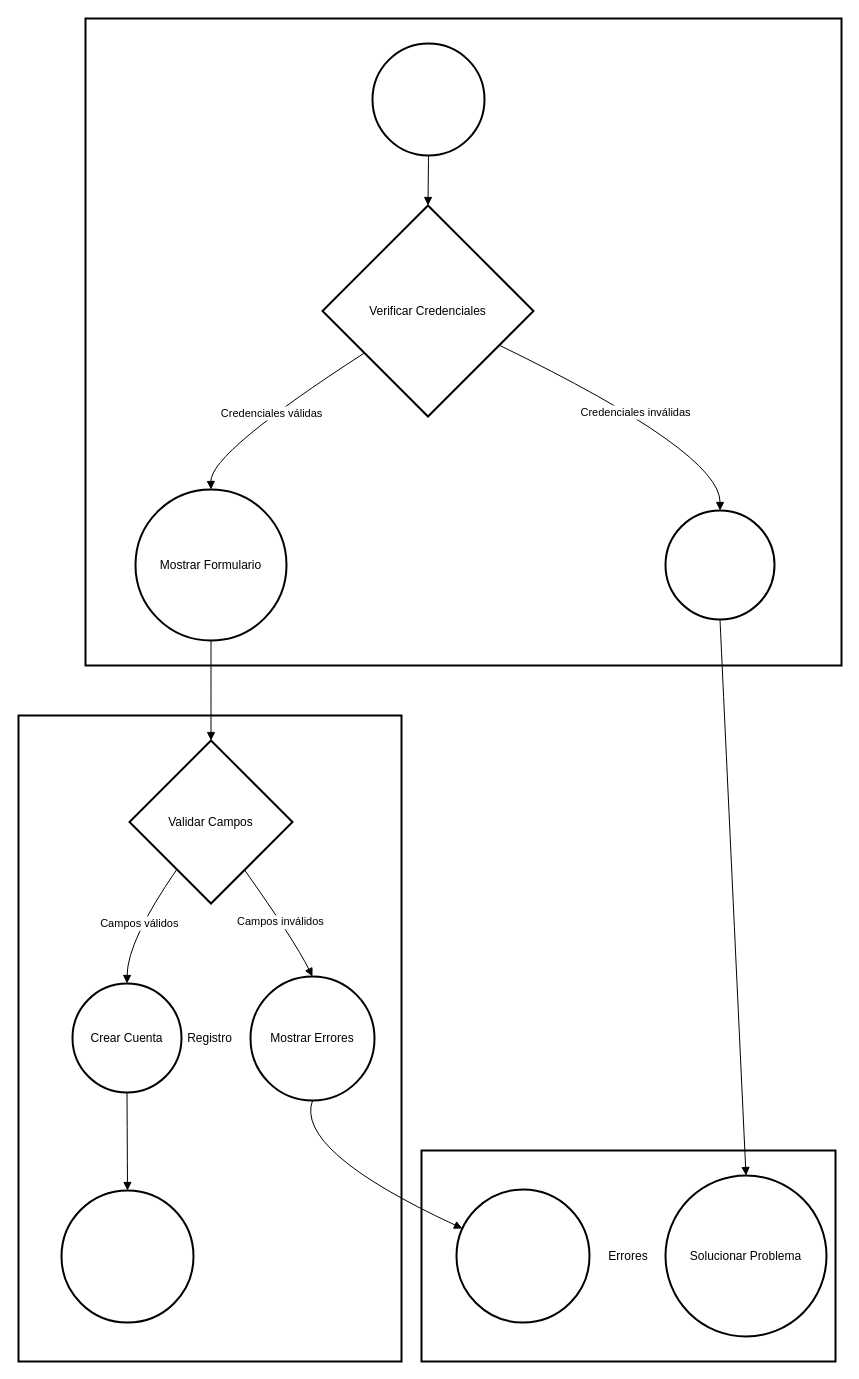
The diagram is 859 pixels wide and 1379 high, and some of its shapes have lost their labels. Here are the shapes that lost their labels. From the top down, the centre of each, then its label:
At (428,99): "Iniciar Página".
At (719,564): "Mostrar Error".
At (127,1256): "Redirigir a Inicio".
At (522,1255): "Corregir Campos".
